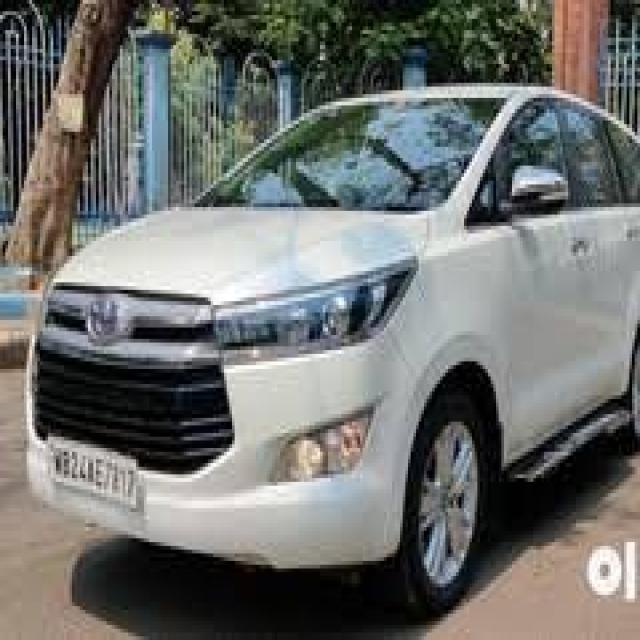light_vehicle: (26, 83, 640, 607)
